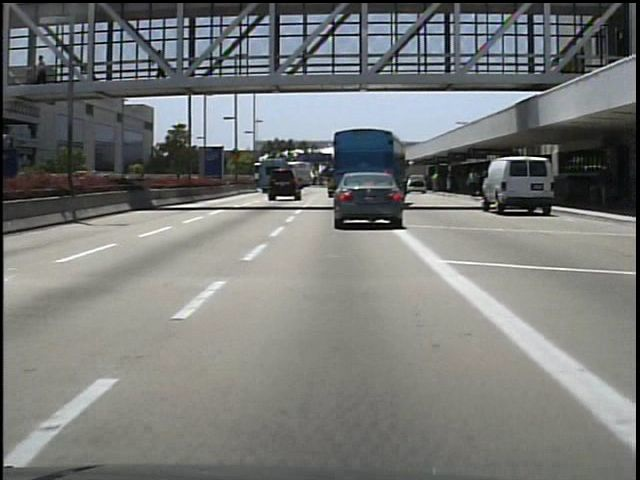person: (594, 166, 616, 211), (153, 47, 173, 90), (35, 53, 53, 86), (466, 165, 481, 200)
